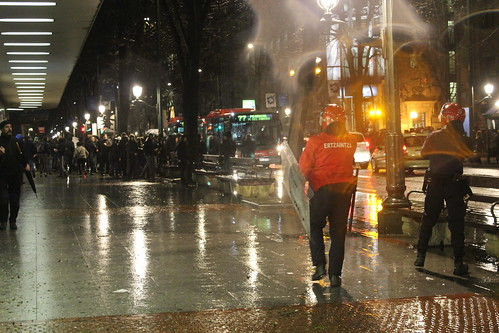policeman: (295, 97, 368, 294), (415, 99, 482, 291)
sidewalk: (8, 178, 343, 327)
tree: (149, 1, 240, 178)
